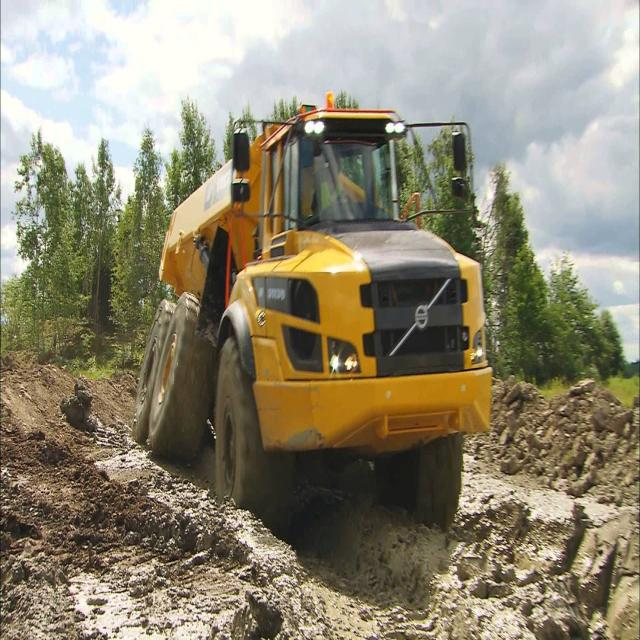dump_truck: (132, 96, 500, 550)
